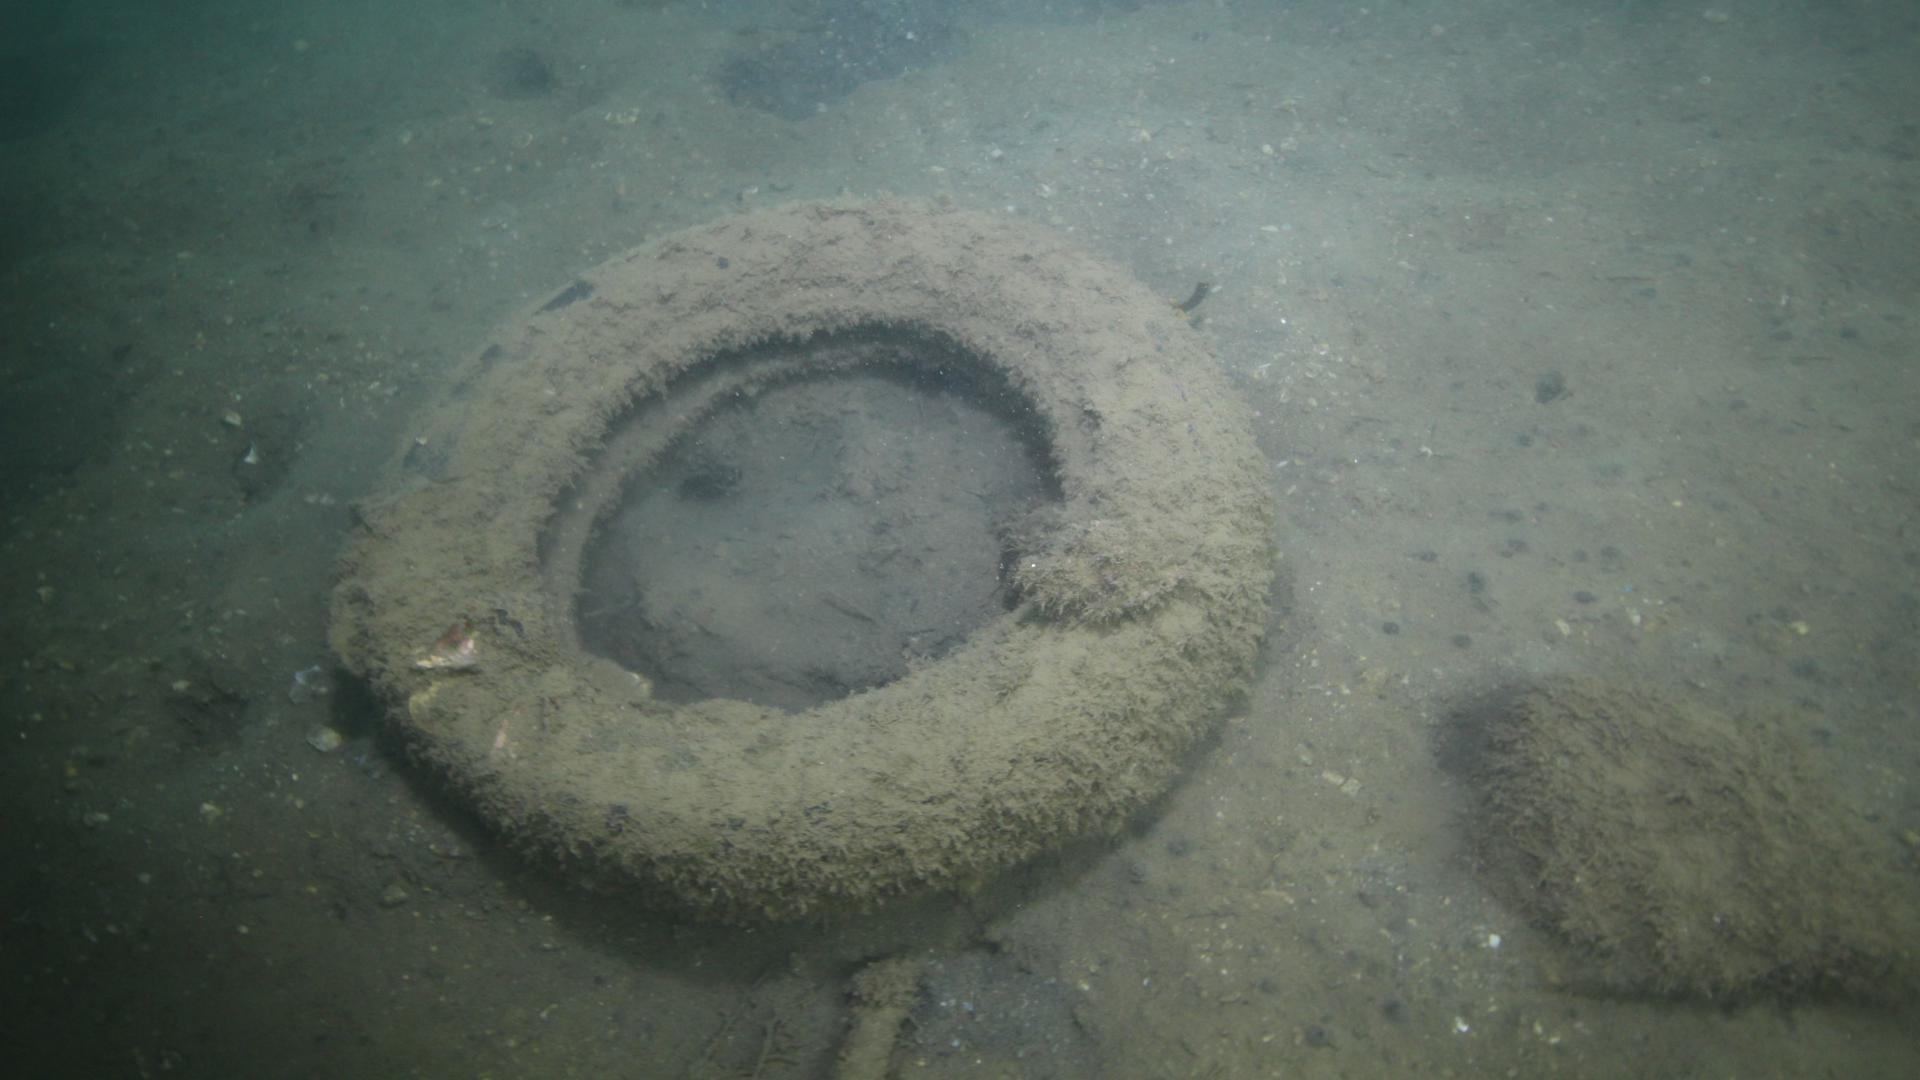tire: (336, 193, 1269, 948)
